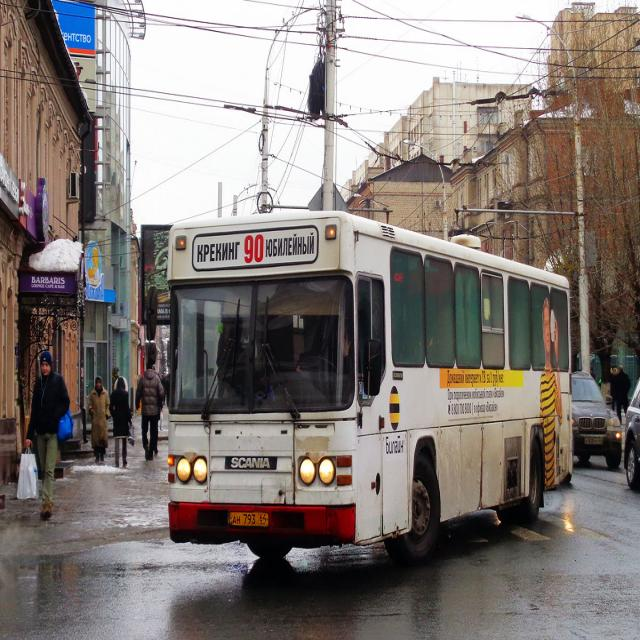number-of-bus: (242, 231, 267, 267)
